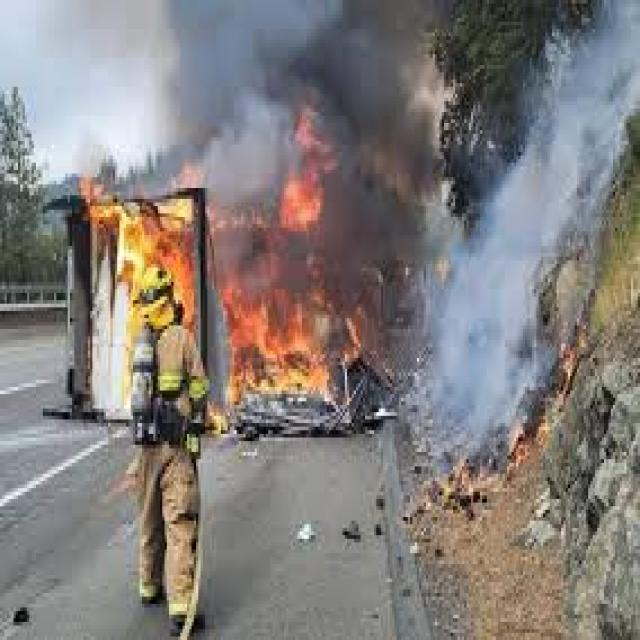fire: (221, 289, 331, 416), (79, 174, 194, 264), (282, 109, 338, 235)
smoke: (417, 4, 640, 466), (160, 3, 394, 220)
